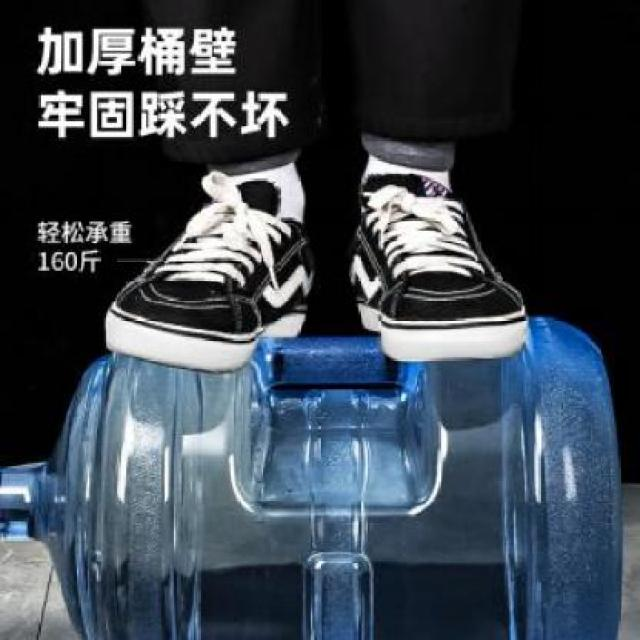coolerbottle: (0, 306, 629, 640)
